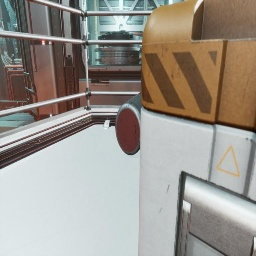NitrogenTank ,: (115, 92, 143, 156)
